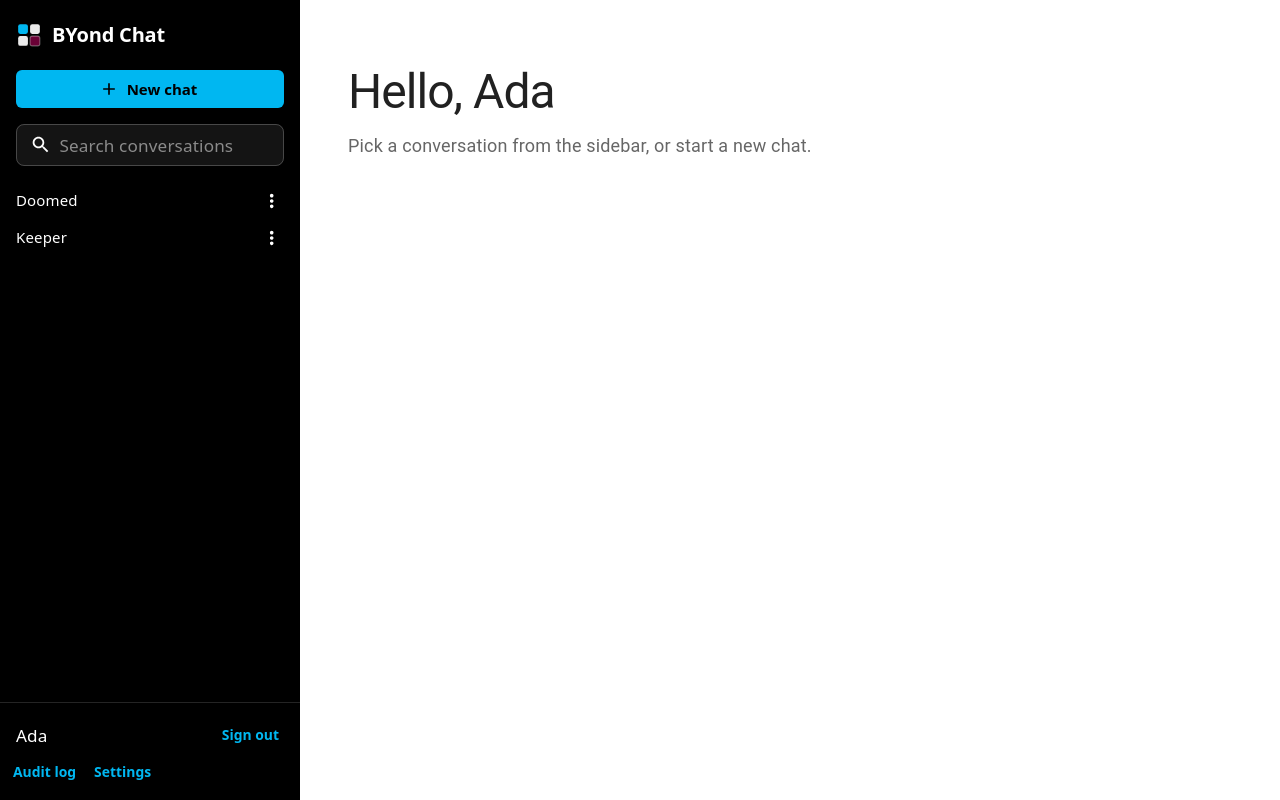
Scenario: conversations sidebar › asks for confirmation before deleting, then removes the conversation
Click the button named "actions for doomed".
click(271, 201)  # box [256,185,287,216]
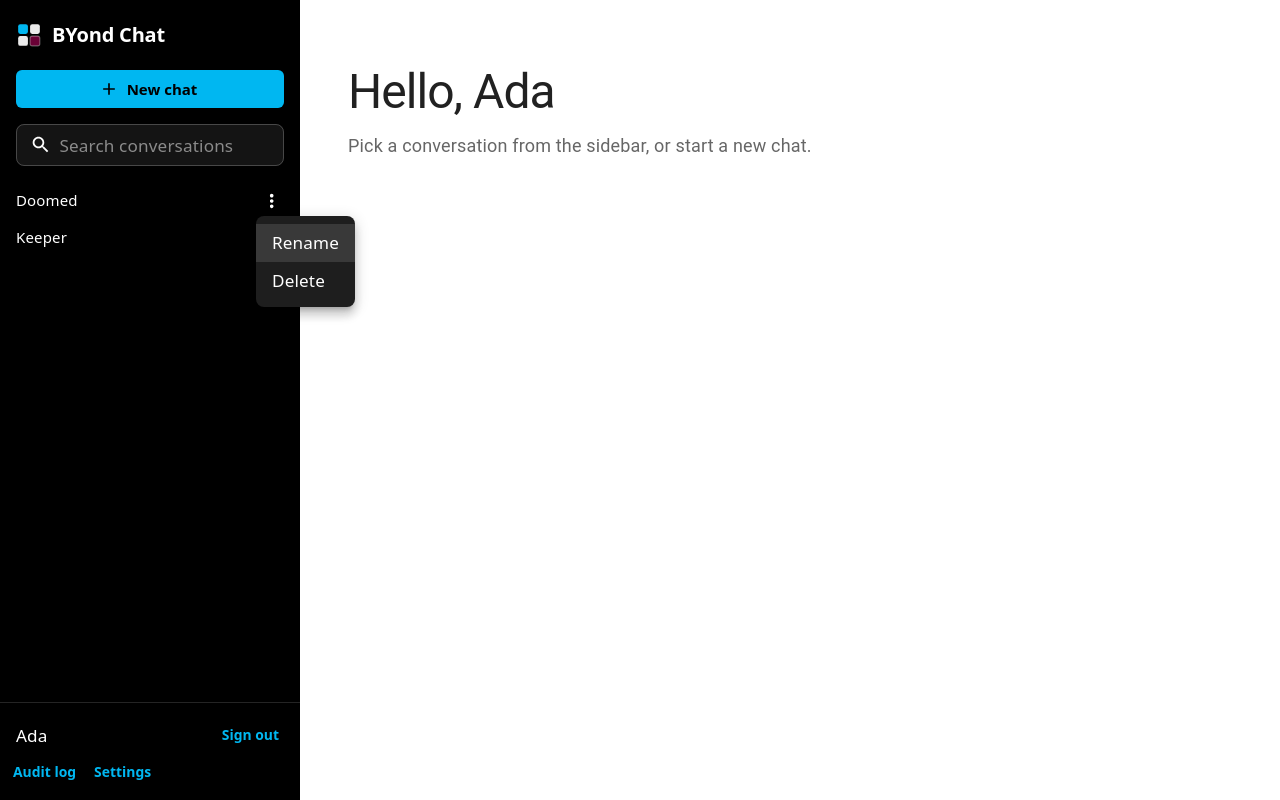
Click the menu item "Delete".
click(298, 280)  # box [272,269,325,292]
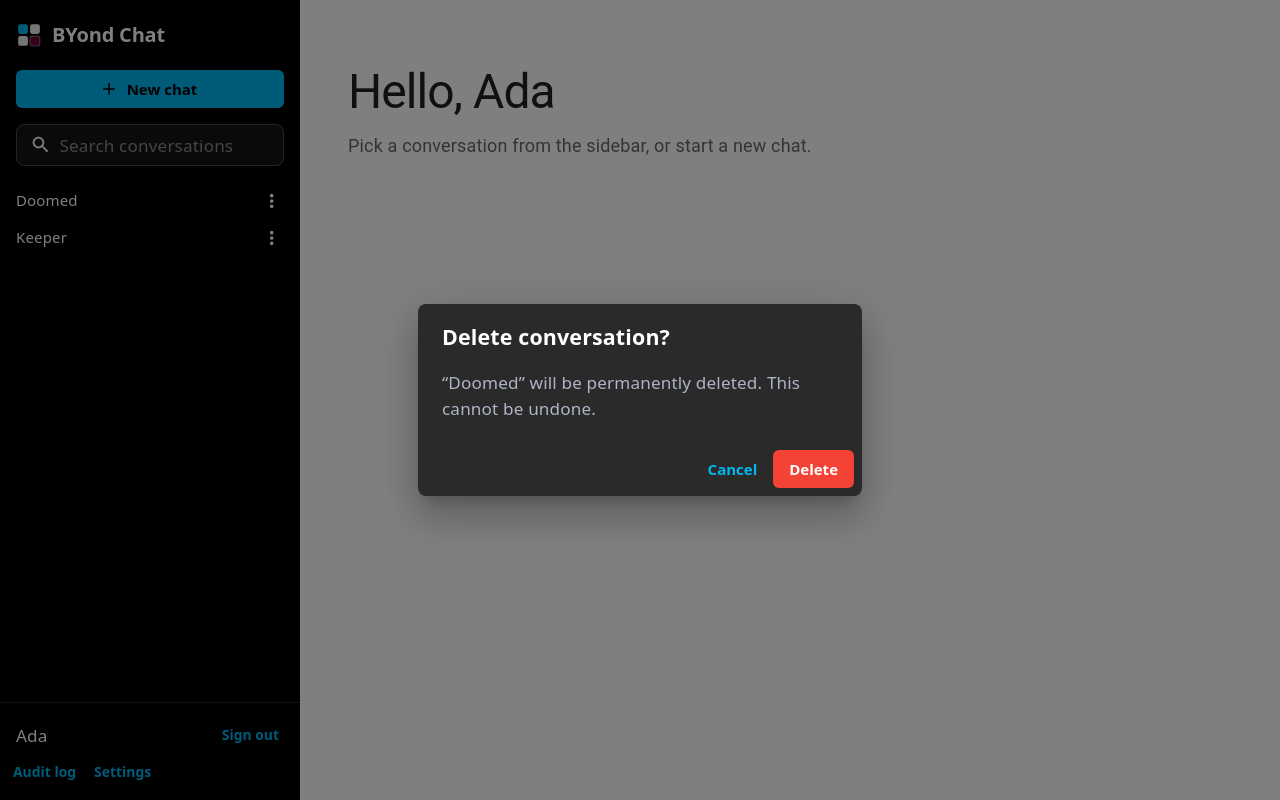
Expected: the text "“Doomed” will be permanently deleted. This cannot be undone." is shown, [442,370,838,422]
Click the button "Delete".
click(814, 469)  # box [773,450,854,488]
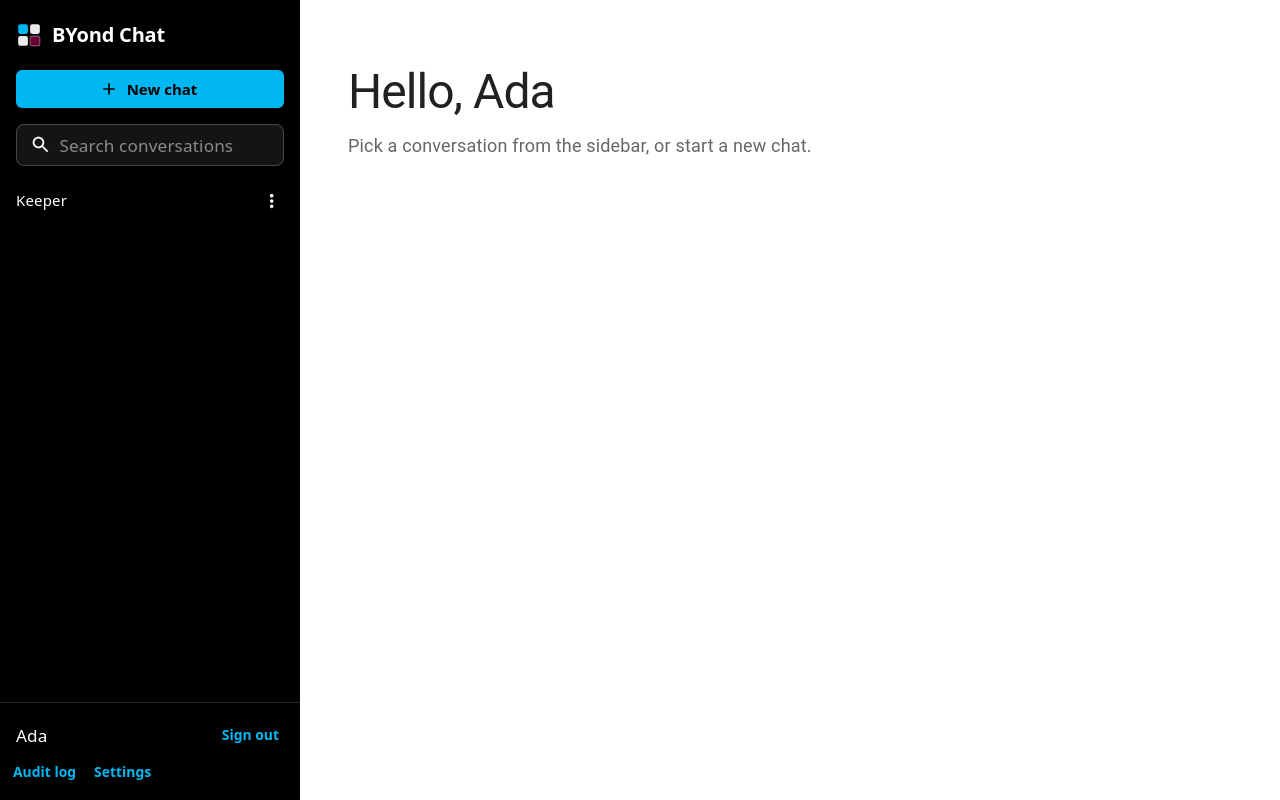
Expected: the text "Keeper" is shown, [16,190,67,210]
Expected: the button "Doomed" is gone
